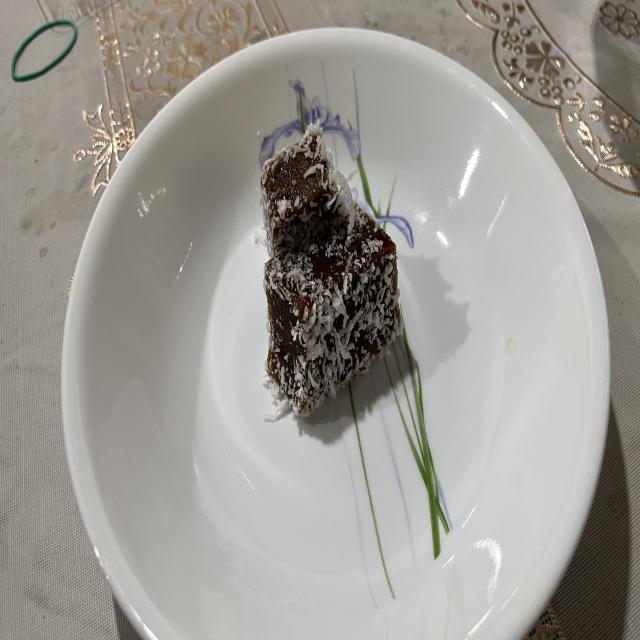kaswi: (263, 204, 401, 418), (260, 125, 350, 256)
